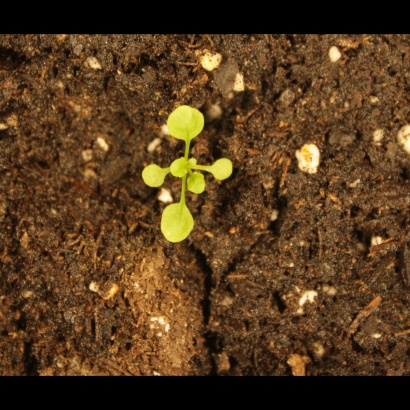leaf: (160, 101, 211, 145), (159, 200, 198, 244), (137, 160, 173, 191), (210, 151, 240, 183), (182, 171, 210, 197), (168, 156, 191, 179)
